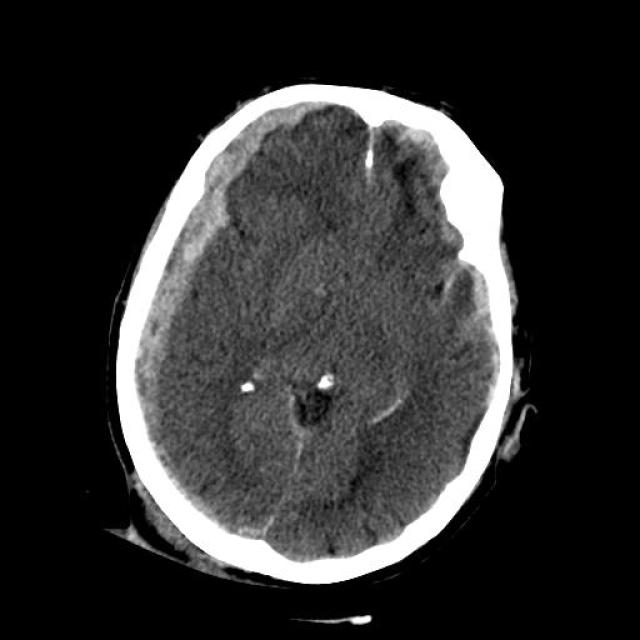Intraparenchymal: (430, 246, 508, 362), (388, 109, 448, 180)
Subarachnoid: (439, 260, 501, 364), (368, 375, 418, 433)
Subdural: (44, 96, 332, 466)
